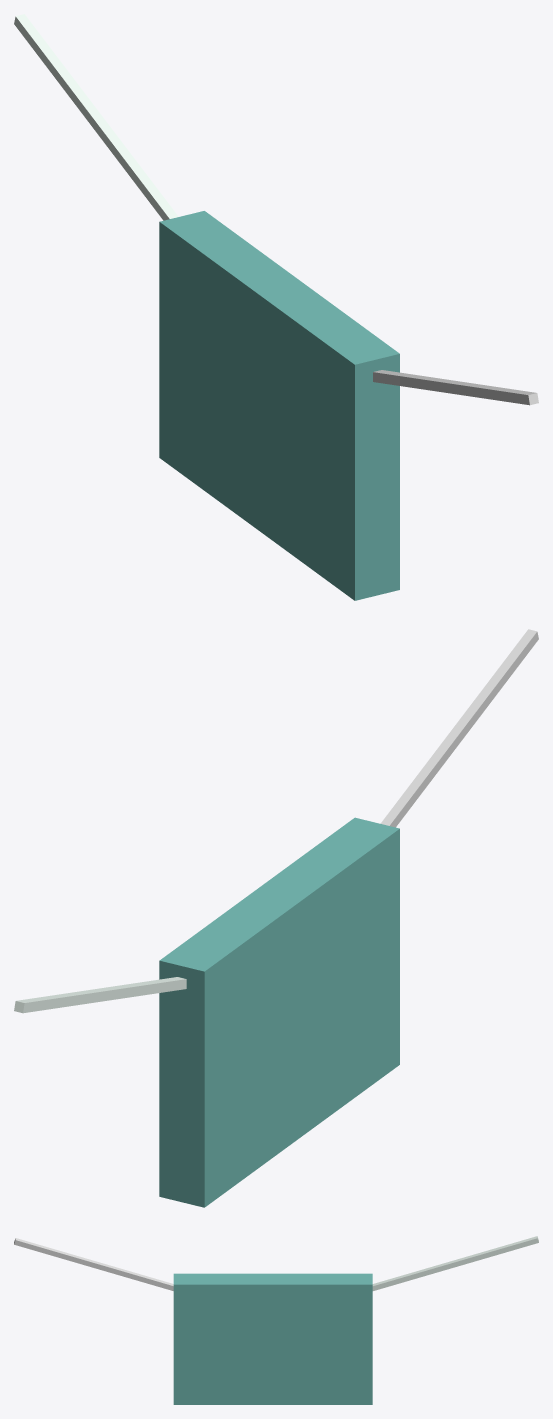
The model's file is LEO ICE SIGN .glb.
3 renders of one model, top to bottom at view 1: azimuth 30°, elevation 25°; view 2: azimuth 150°, elevation 25°; view 3: azimuth 270°, elevation 25°, orthographic. The views are drawn at different scales.
Visible parts, largest first — view 1: Cube, Cube.001, Cube.002; view 2: Cube, Cube.002, Cube.001; view 3: Cube, Cube.001, Cube.002.
Boxes of the visible parts, bbox=[...] form: Cube: bbox=[159, 211, 399, 600]; Cube.001: bbox=[14, 14, 178, 220]; Cube.002: bbox=[373, 370, 538, 405]; Cube: bbox=[159, 817, 399, 1207]; Cube.002: bbox=[380, 629, 538, 827]; Cube.001: bbox=[14, 977, 186, 1013]; Cube: bbox=[173, 1273, 372, 1404]; Cube.001: bbox=[372, 1236, 538, 1290]; Cube.002: bbox=[14, 1238, 173, 1290].
Size of the model in its own units: 0.4 by 2.7 by 7.92.
